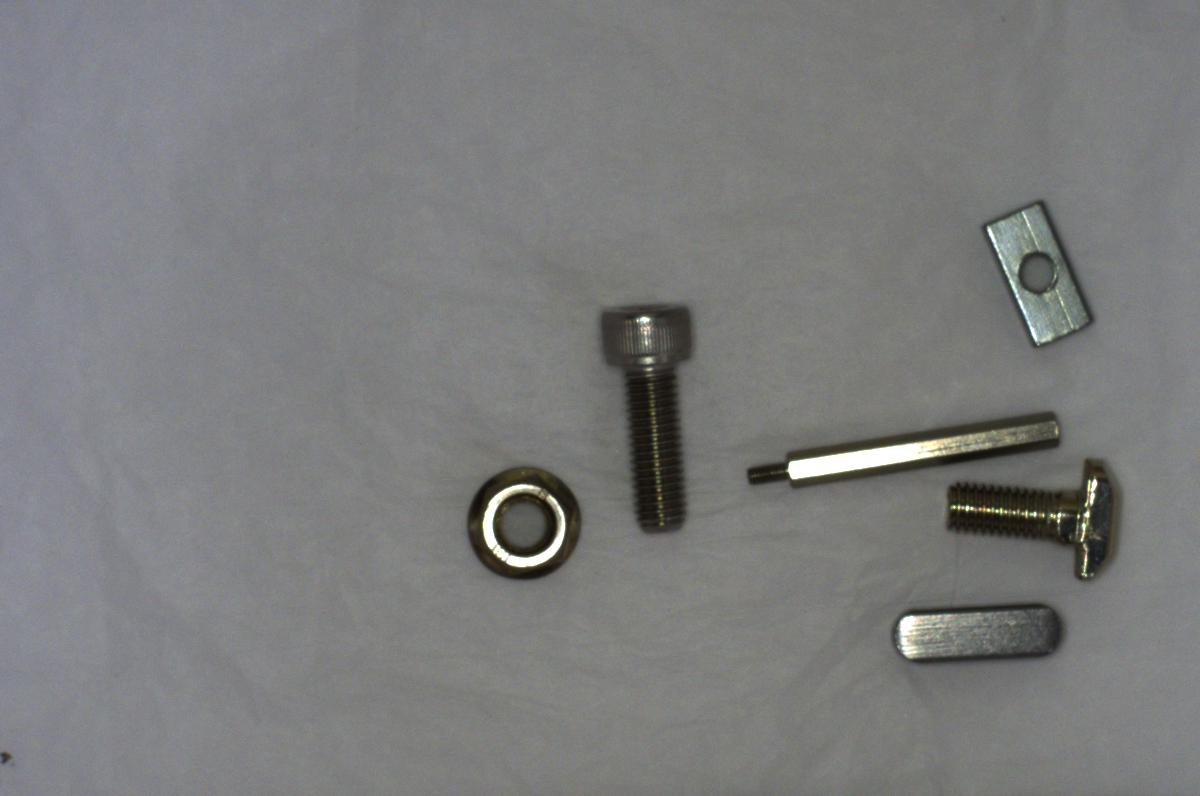Flange nut: (455, 459, 588, 583)
Hexagon screw: (585, 289, 714, 540)
Hexagonal steel column: (730, 406, 1069, 494)
Keybar: (874, 592, 1070, 671)
Rectangular nut: (975, 185, 1102, 355)
T-shaped screw: (944, 448, 1129, 581)
